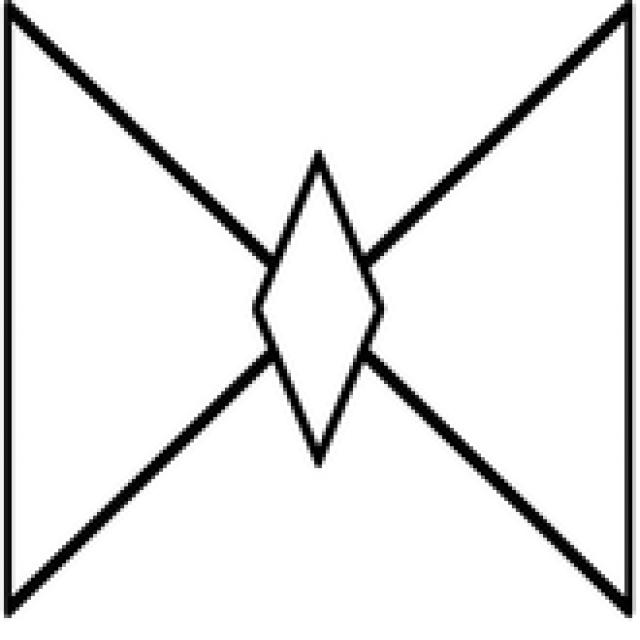Plug Valve: (6, 6, 636, 616)
